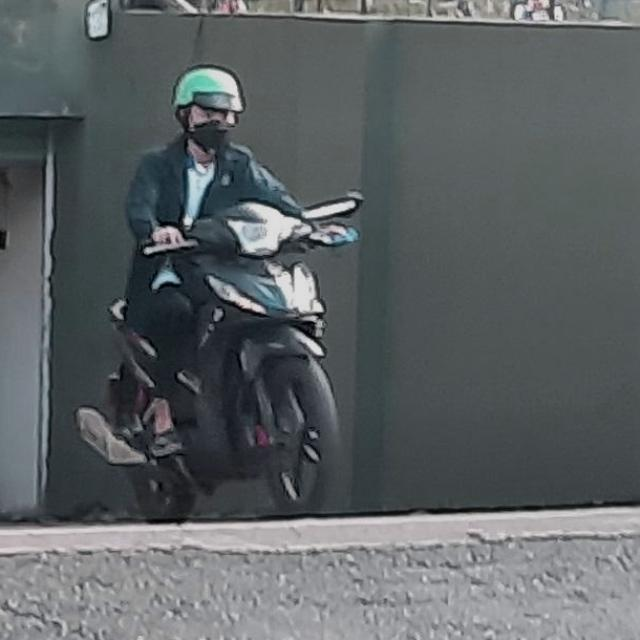Helmet: (174, 60, 242, 150)
